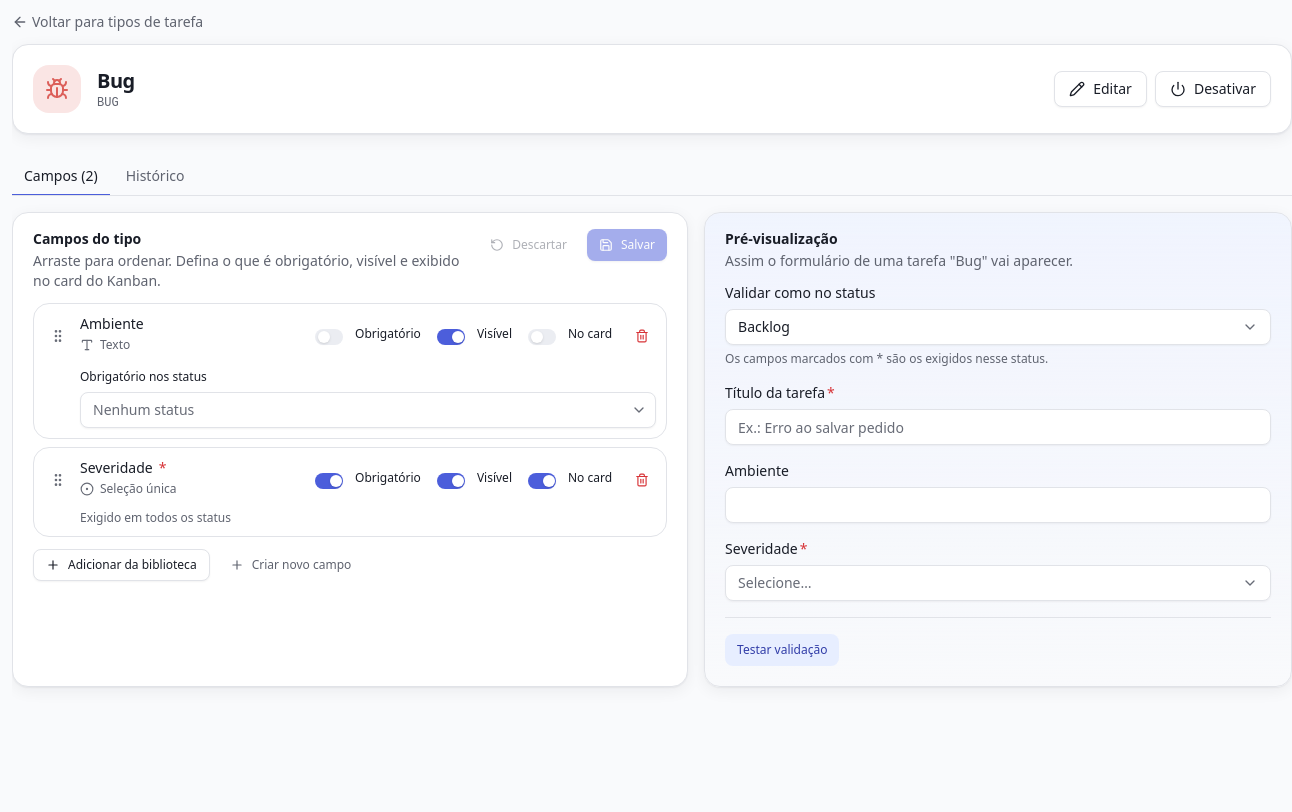
Test: TaskTypeDetailPage › a pré-visualização aponta campos obrigatórios vazios
The width and height of the screenshot is (1292, 812).
Click the button "Testar validação".
click(782, 650)  # box [725,634,840,666]
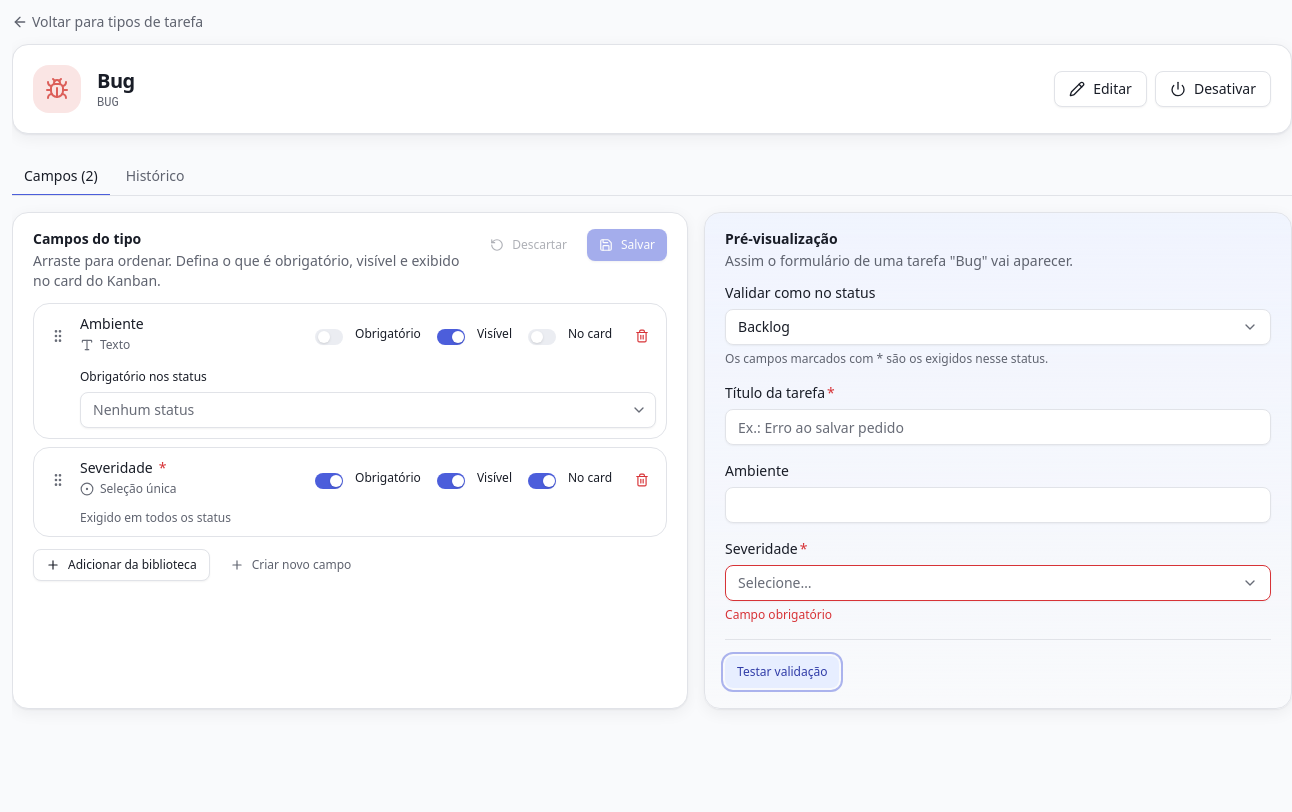
Expected: the text "Formulário válido" is not shown
Result: the text "Campo obrigatório" is shown at [725,606,832,623]
tornando o campo opcional, a validação passa
Click the 4th switch named "Obrigatório".
click(329, 481)  # box [315,473,343,489]
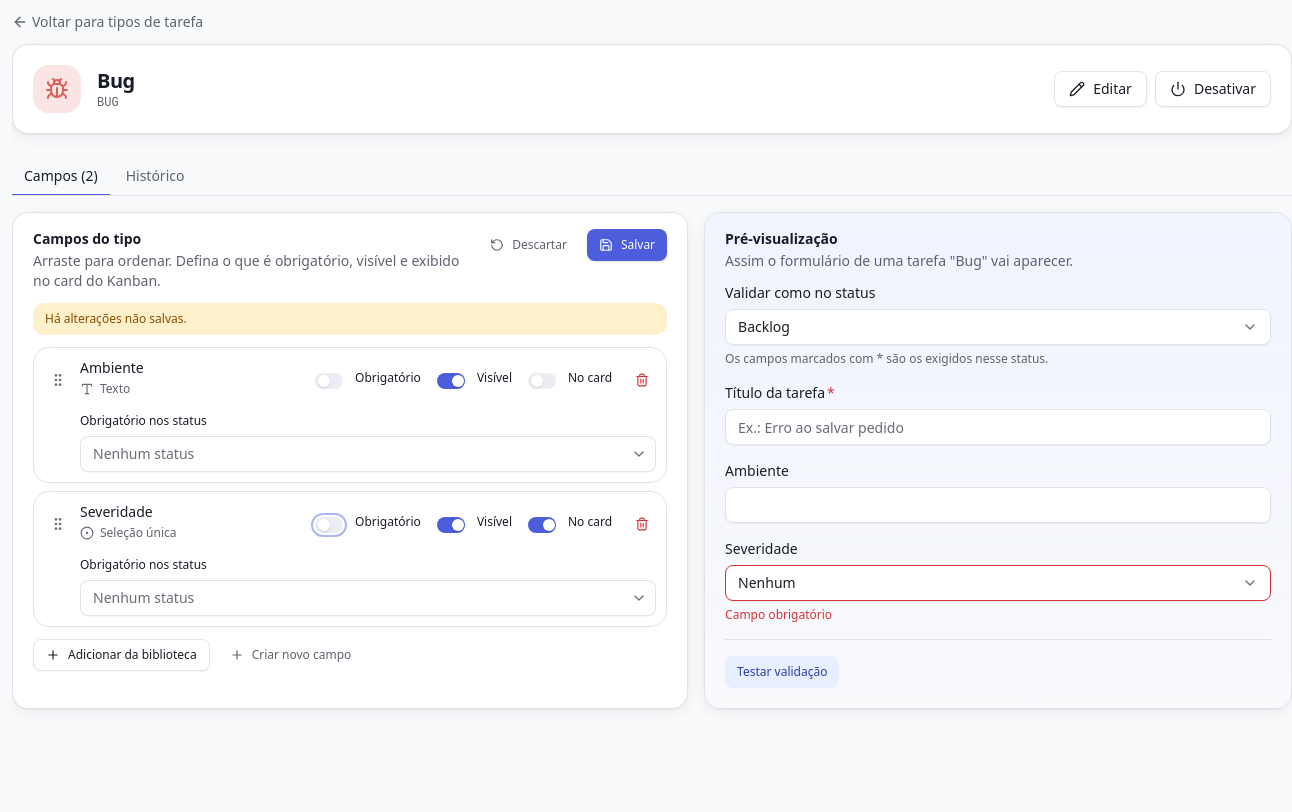
Click the button "Testar validação".
click(782, 672)  # box [725,656,840,688]
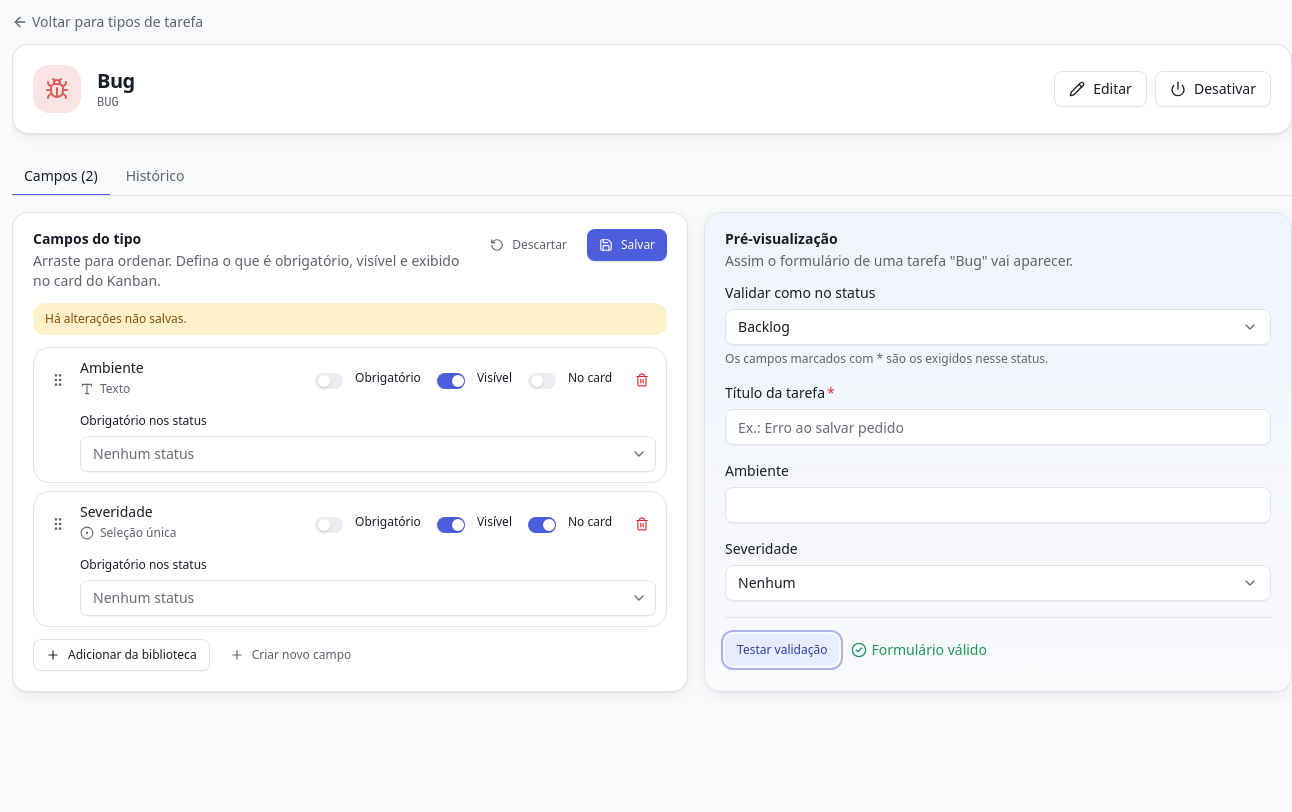
Result: the text "Formulário válido" is shown at [852,640,987,660]
